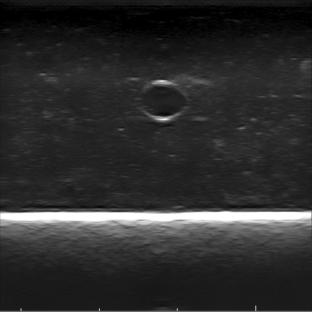vessel: (138, 79, 189, 122)
